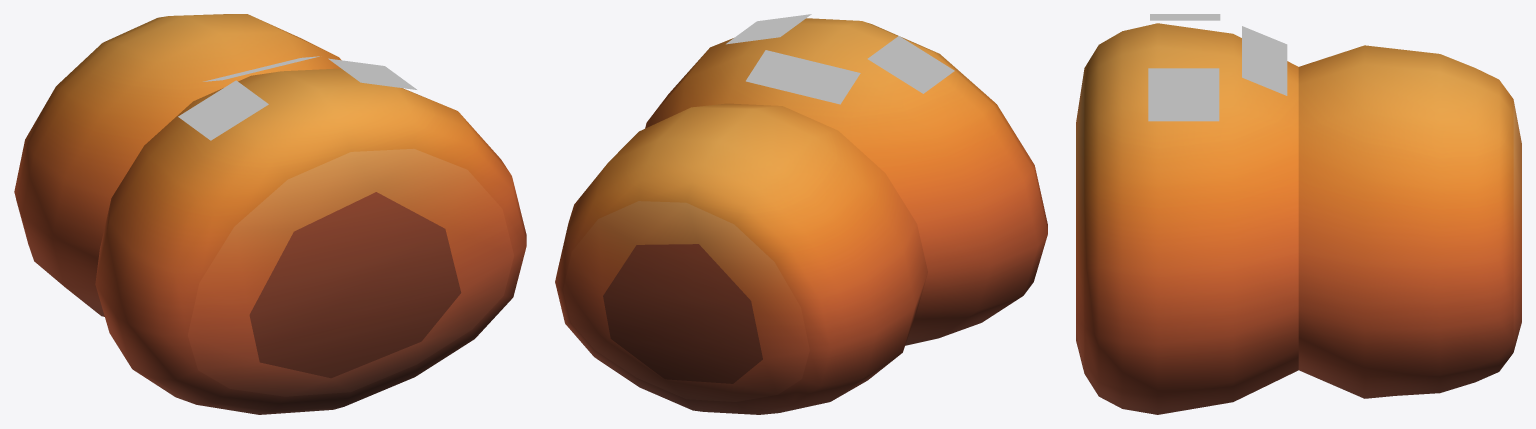
Rendered from sweet_tube_half_orange_smile.fbx.
The picture shows the model from 3 angles, left to right: view 1: azimuth 30°, elevation 25°; view 2: azimuth 150°, elevation 25°; view 3: azimuth 270°, elevation 25°; orthographic projection. The views are drawn at different scales.
Visible parts, largest first — view 1: pie_half_orange, smile_pie; view 2: pie_half_orange, smile_pie; view 3: pie_half_orange, smile_pie.
Part boxes in pixels (x1,y1,x2,y2): pie_half_orange: (14,14,526,414); smile_pie: (178,56,416,140); pie_half_orange: (555,18,1047,414); smile_pie: (726,14,954,104); pie_half_orange: (1076,23,1521,414); smile_pie: (1148,14,1287,121).
Size of the model in its own units: 34.33 by 25.87 by 30.95.
